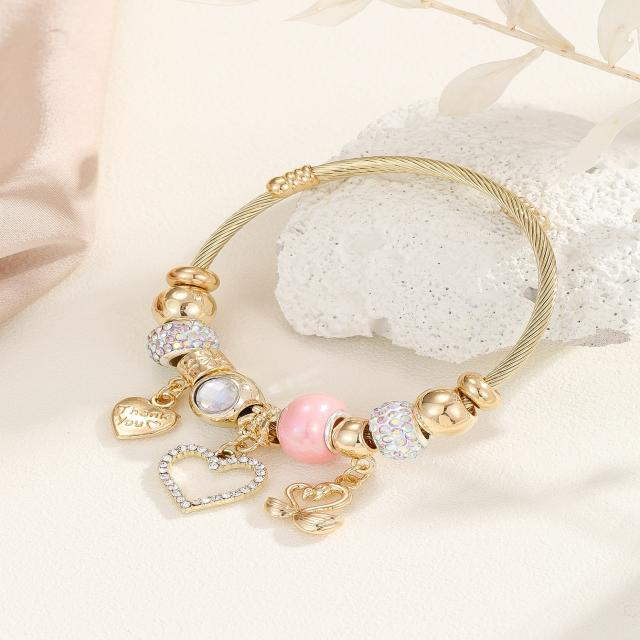bracelet: (67, 107, 640, 600)
